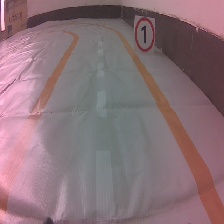limit: (132, 14, 157, 57)
